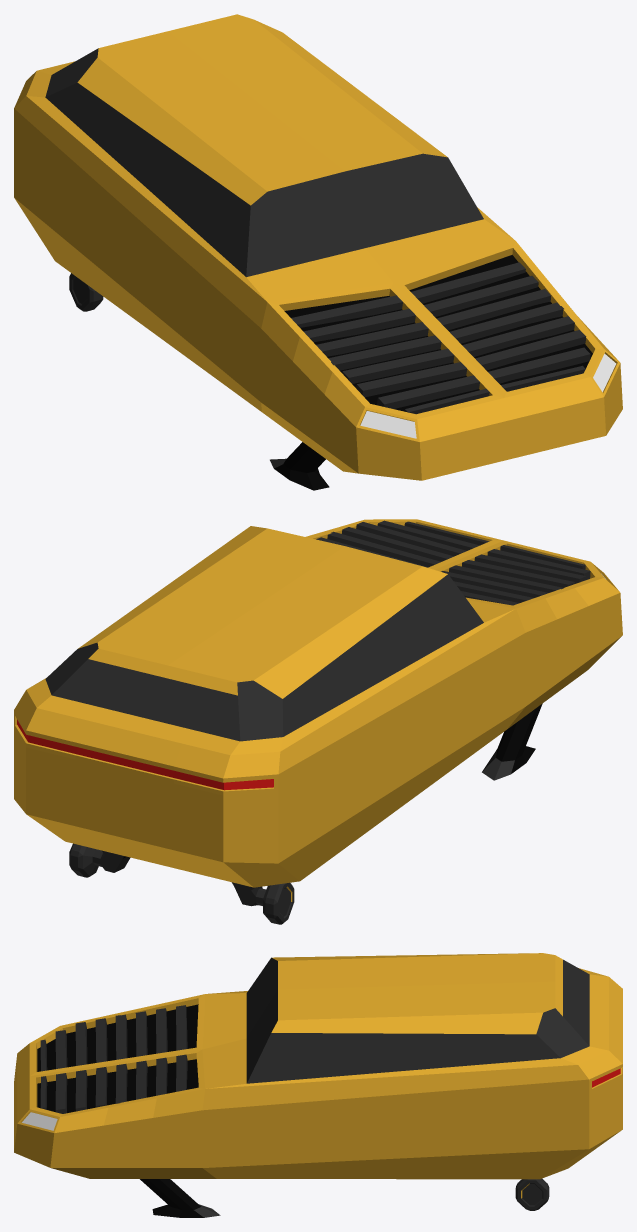
Rendered from flycaryellow.fbx.
The picture shows the model from 3 angles, top to bottom: view 1: azimuth 30°, elevation 25°; view 2: azimuth 150°, elevation 25°; view 3: azimuth 270°, elevation 25°; orthographic projection. The views are drawn at different scales.
Visible parts, largest first — view 1: Cube; view 2: Cube; view 3: Cube.
Boxes of the visible parts, x1,y1,x2,y2 form: Cube: (14, 14, 622, 490); Cube: (14, 519, 622, 924); Cube: (14, 953, 622, 1217).
Bounding box in the file's own units: 281 × 248 × 716.
